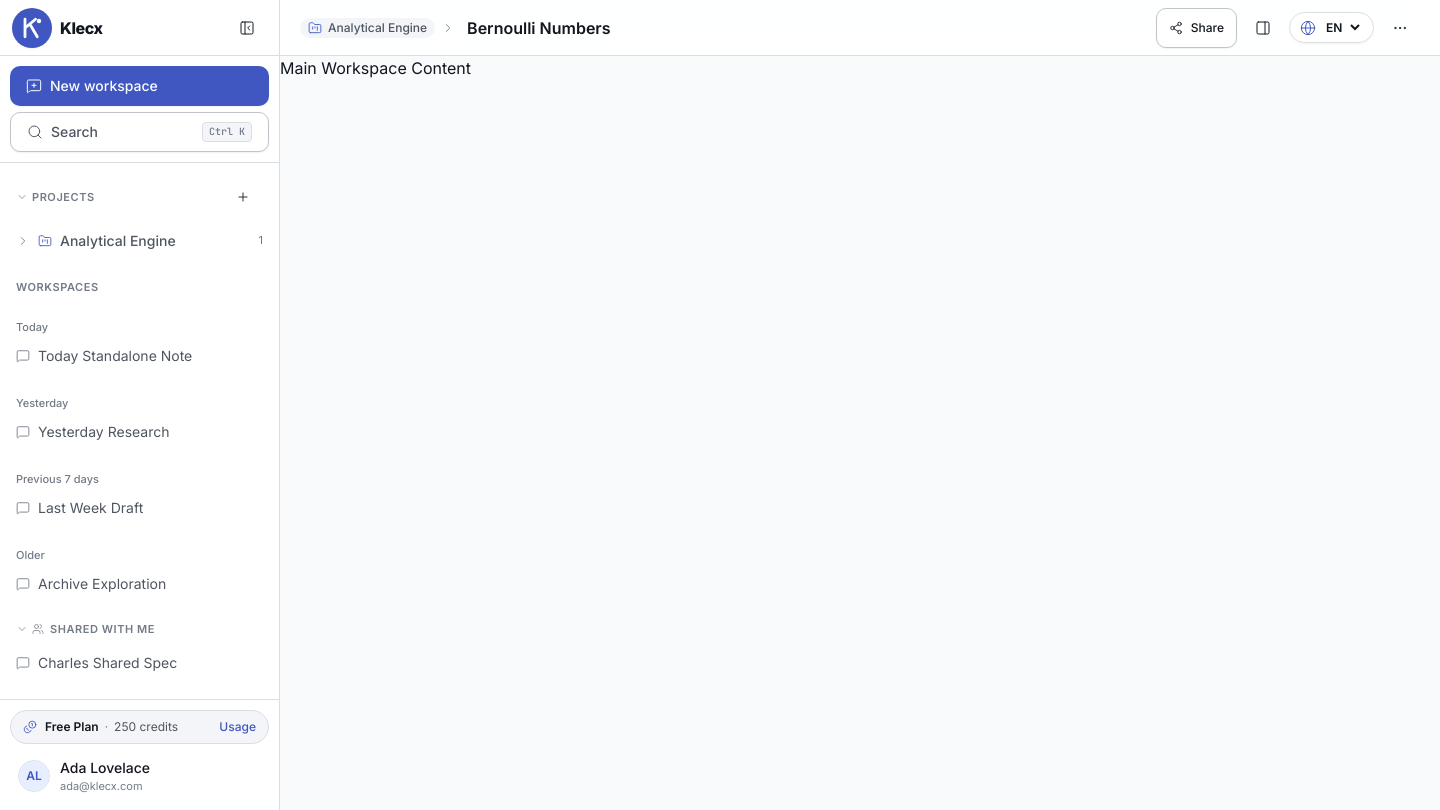
Test: Step 3.4 — AppShell, Sidebar, Topbar, Mobile Drawer & Command Palette › supports inline workspace title editing in Topbar (Enter saves, Escape cancels)
Expected: the 2nd text "Analytical Engine" is shown, x1=60 y1=231 x2=176 y2=251
# Click workspace title in Topbar to edit
Click the button "Bernoulli Numbers" at (549, 28), box x1=461 y1=12 x2=636 y2=44
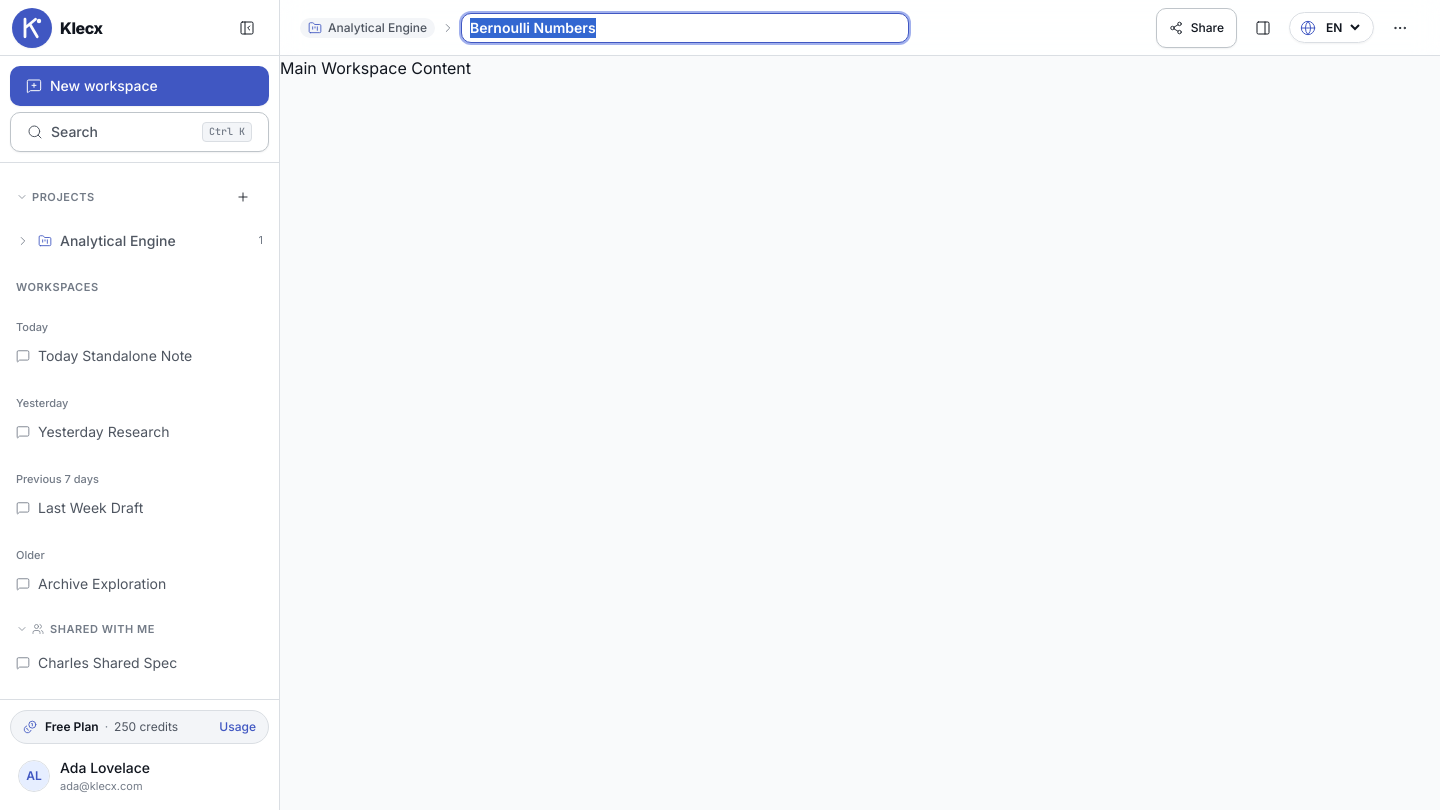
Expected: the field named "Edit workspace title" holds "Bernoulli Numbers"
Replace the text in the field named "Edit workspace title" with "Aborted Name" at (685, 28), box x1=461 y1=12 x2=909 y2=42
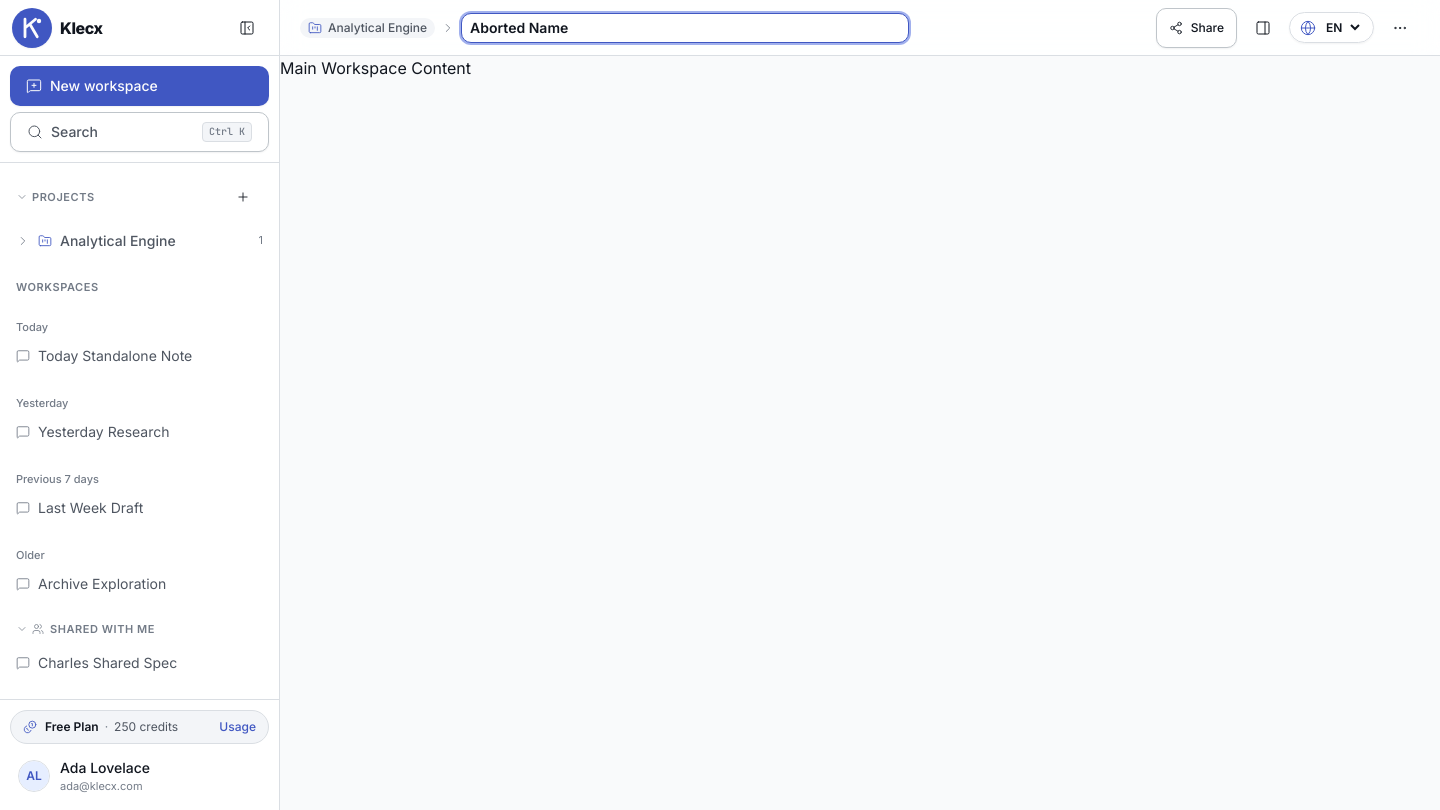
Press Escape in the field named "Edit workspace title", box x1=461 y1=12 x2=909 y2=42
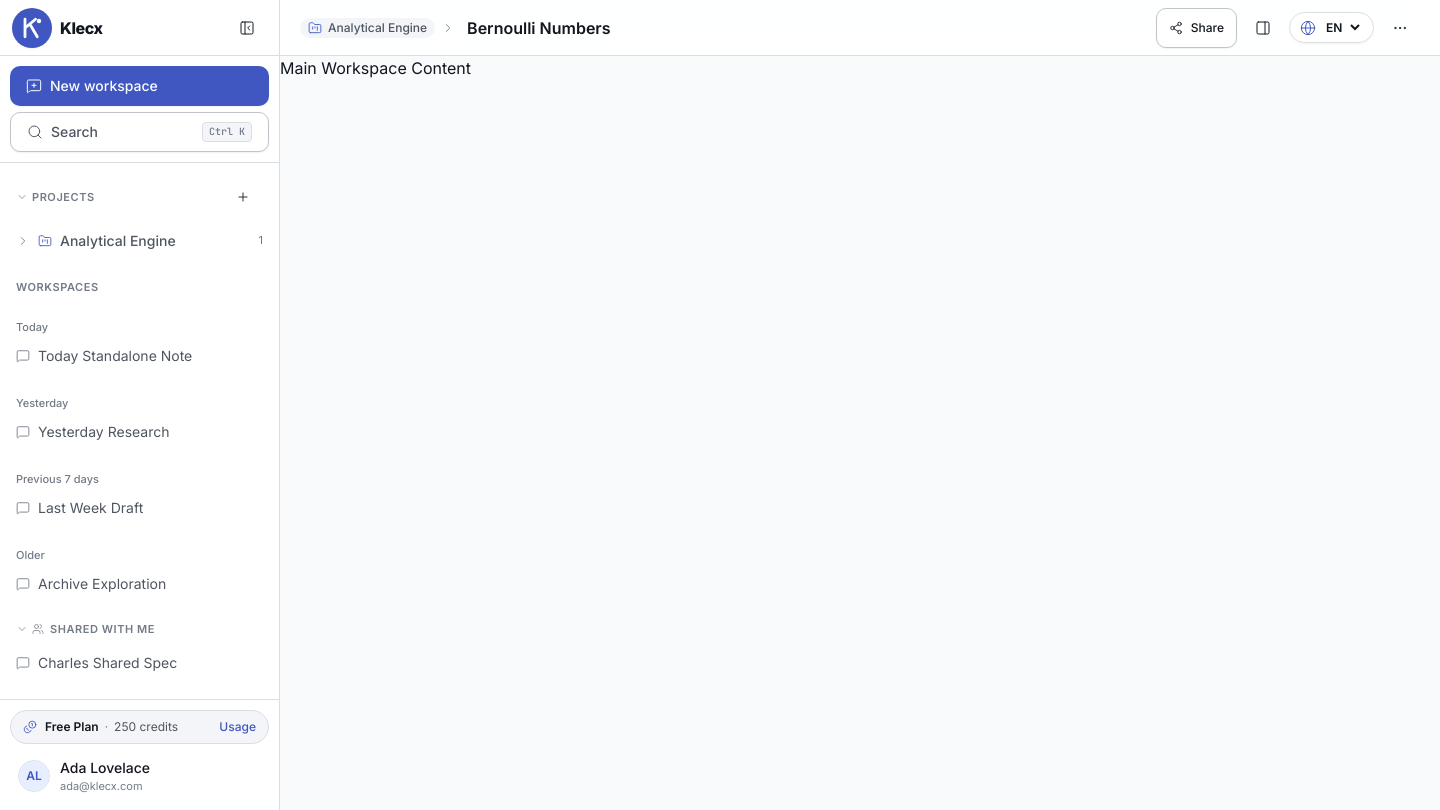
Expected: the button "Bernoulli Numbers" is shown
Click the button "Bernoulli Numbers" at (549, 28), box x1=461 y1=12 x2=636 y2=44
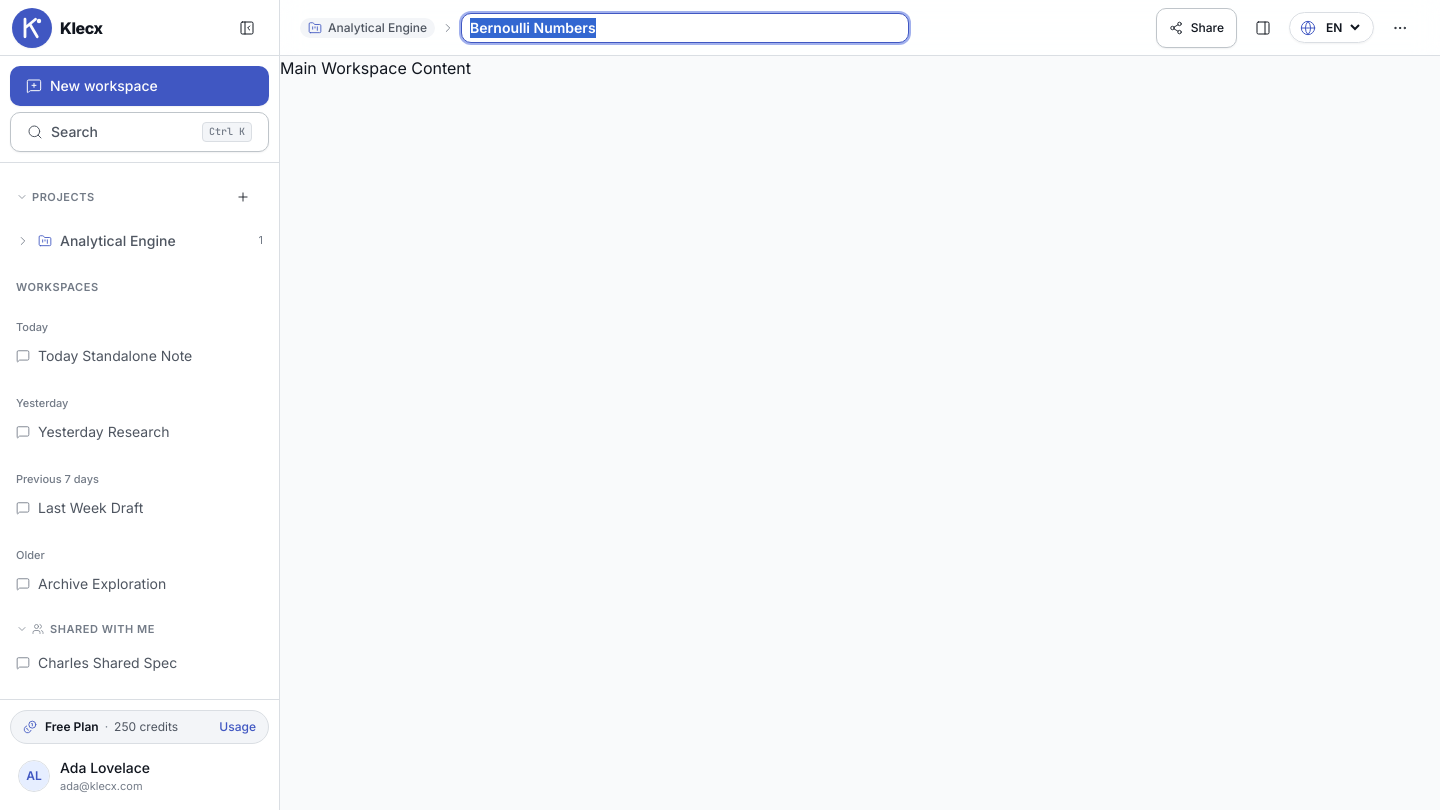
Replace the text in the field named "Edit workspace title" with "Updated Bernoulli Title" at (685, 28), box x1=461 y1=12 x2=909 y2=42
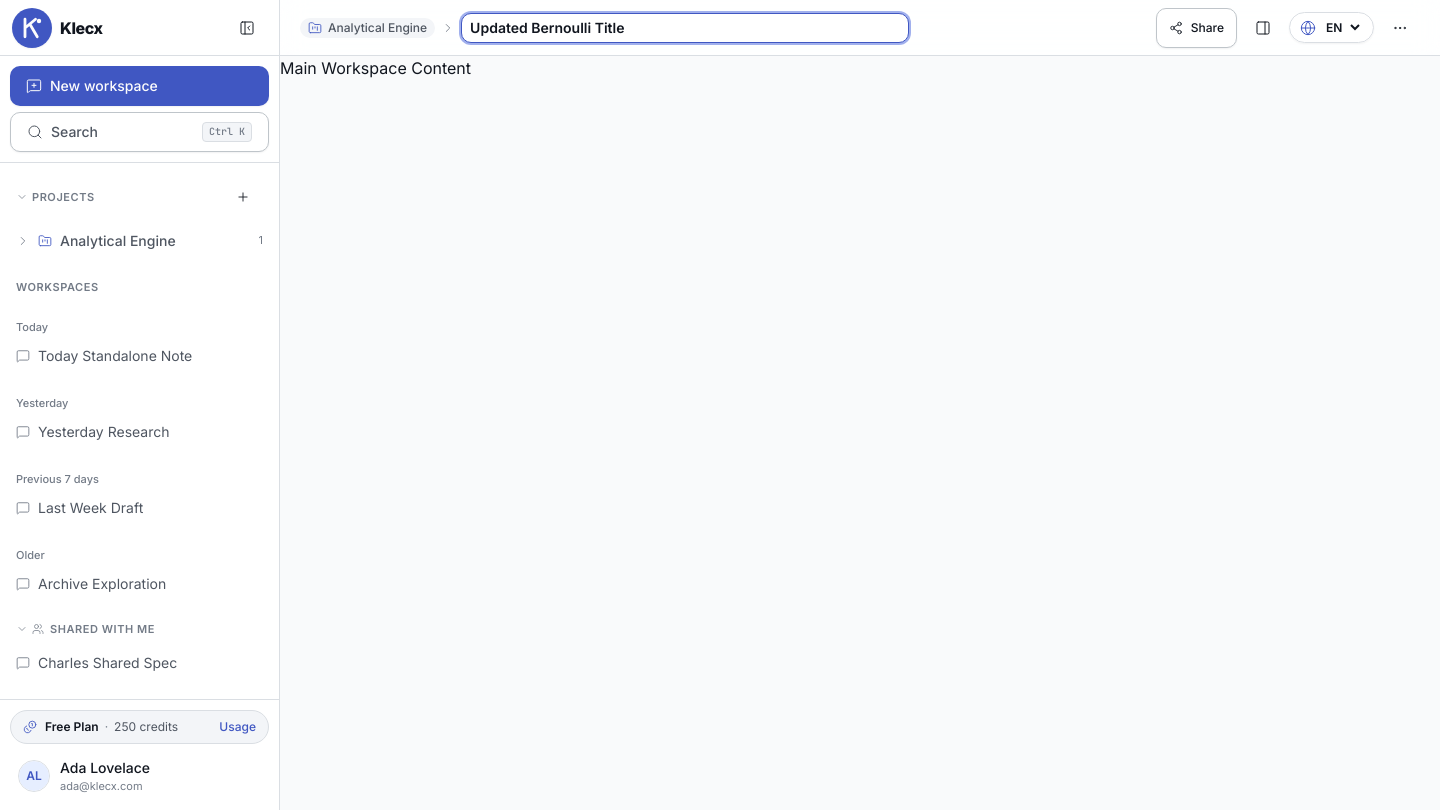
Press Enter in the field named "Edit workspace title", box x1=461 y1=12 x2=909 y2=42
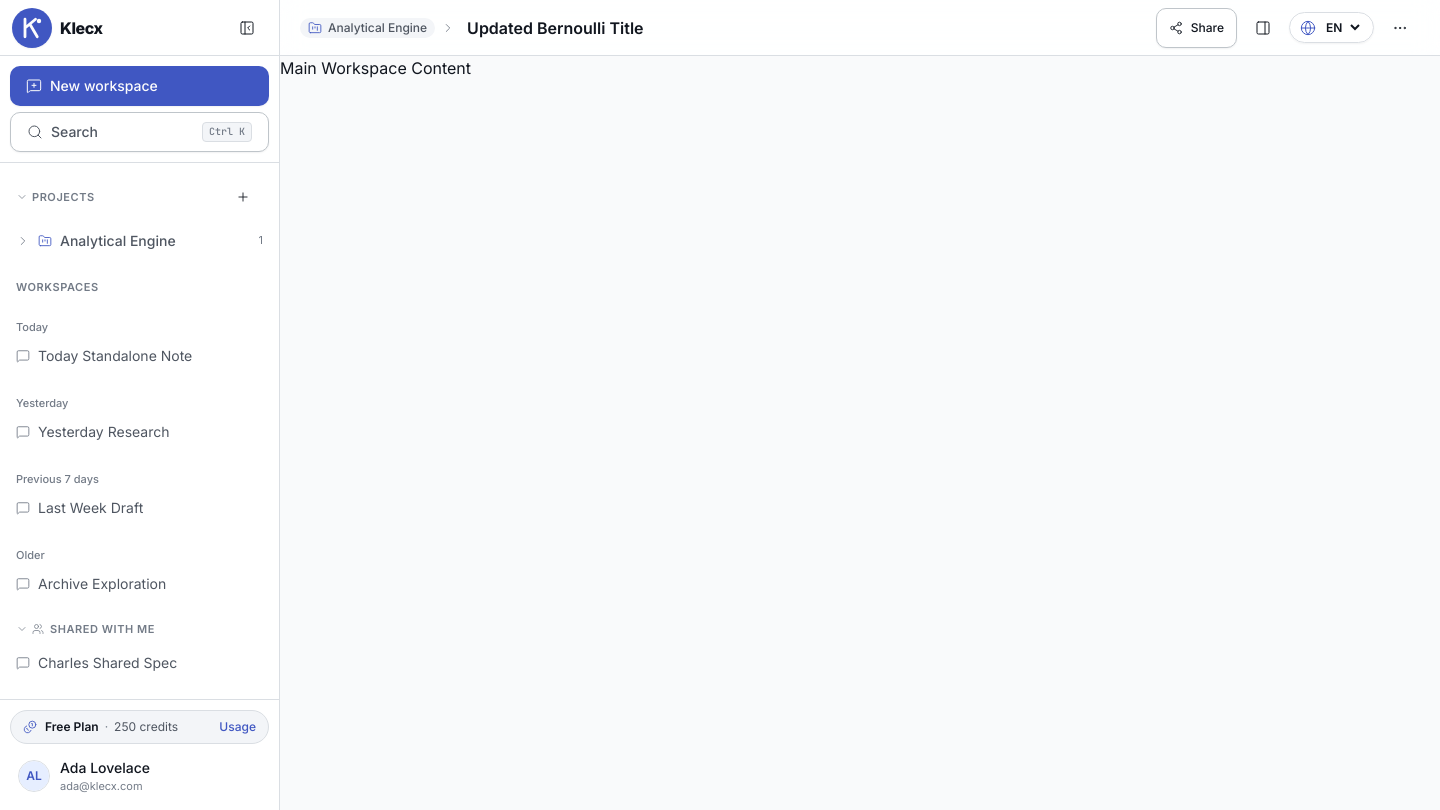
Expected: the button "Updated Bernoulli Title" is shown, x1=461 y1=12 x2=670 y2=44
